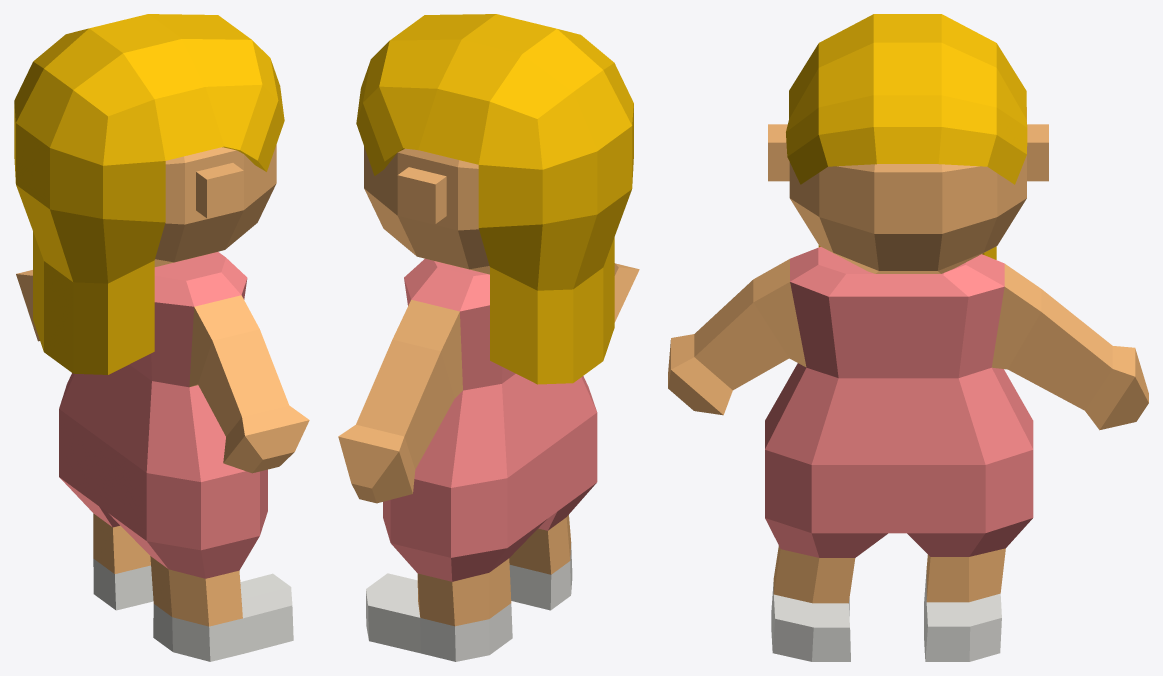
File: doll-pink.fbx
3 renders of one model, left to right at view 1: azimuth 30°, elevation 25°; view 2: azimuth 150°, elevation 25°; view 3: azimuth 270°, elevation 25°, orthographic. The views are drawn at different scales.
Parts seen in each view (by area): view 1: girl.001; view 2: girl.001; view 3: girl.001.
Boxes of the visible parts, bbox=[...] form: girl.001: bbox=[14, 14, 309, 661]; girl.001: bbox=[338, 14, 639, 661]; girl.001: bbox=[668, 14, 1148, 661].
Size of the model in its own units: 145 by 346 by 259.
